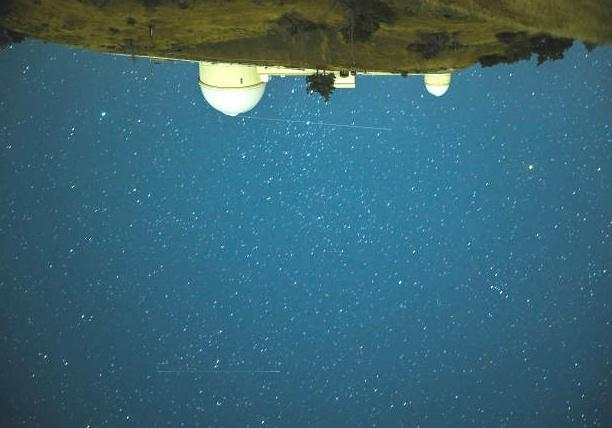meteorite: (139, 351, 287, 387), (245, 110, 403, 139)
